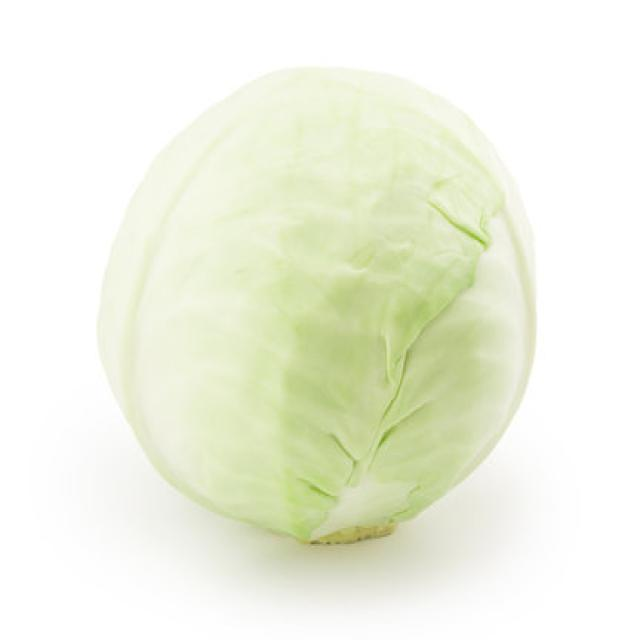Cabbage: (95, 62, 538, 546)
